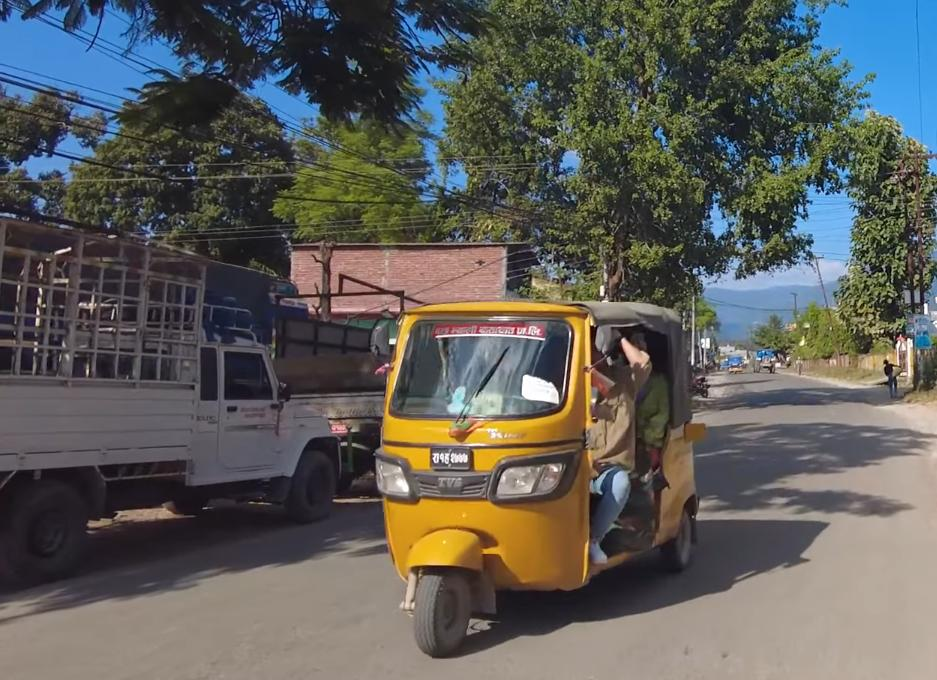auto_rickshaw: (369, 288, 707, 657)
transport_vehicle: (0, 214, 343, 576)
